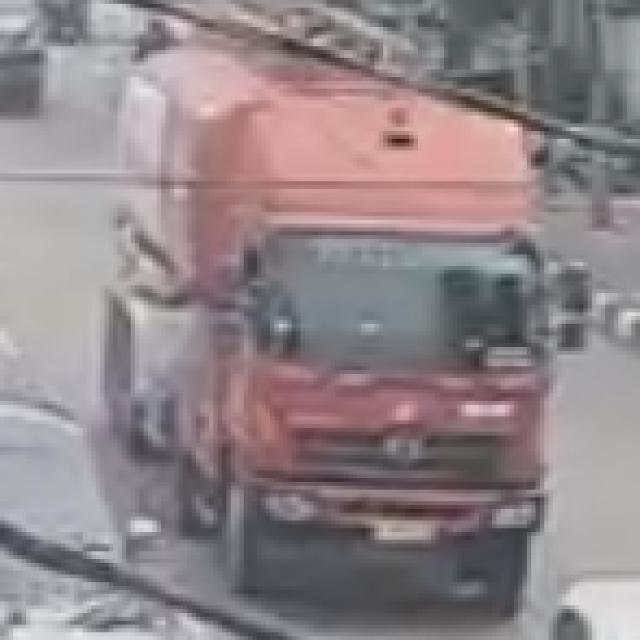Truck: (111, 0, 550, 623)
